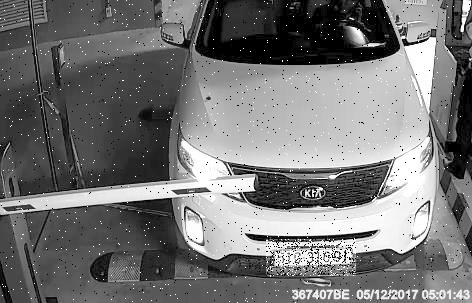License-plate: (267, 240, 357, 277)
